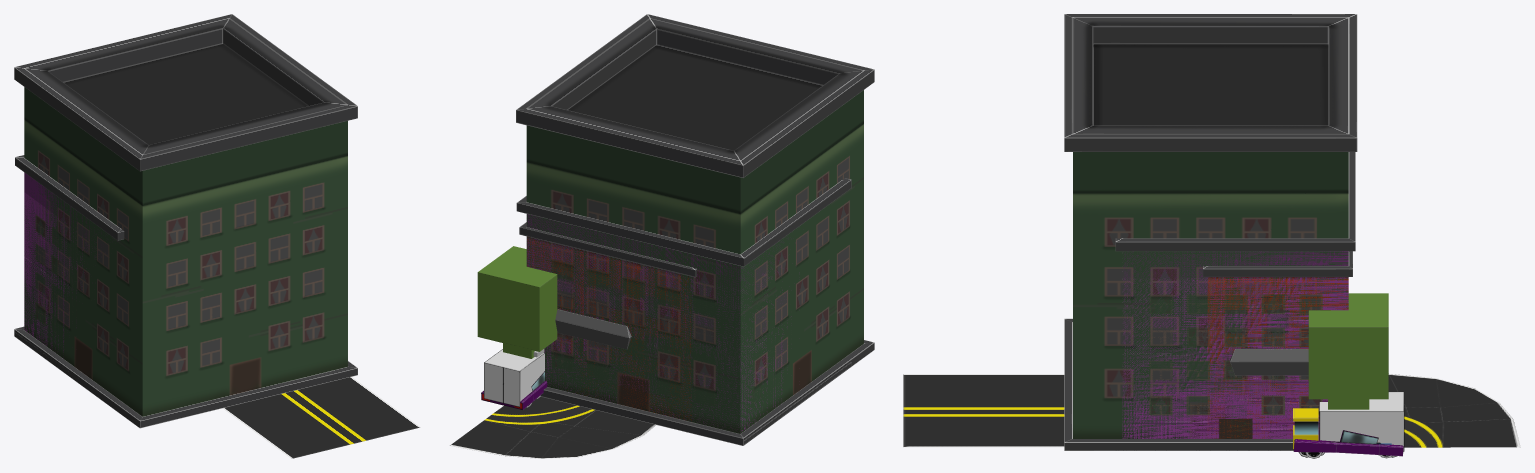
Rendered from Assets_Export_01.fbx.
The picture shows the model from 3 angles, left to right: view 1: azimuth 30°, elevation 25°; view 2: azimuth 150°, elevation 25°; view 3: azimuth 270°, elevation 25°; orthographic projection. The views are drawn at different scales.
Parts seen in each view (by area): view 1: Building_01_L, Road_Straight2, BGBuilding_01_L1; view 2: Building_01_L, BGBuilding_01_L1, pPlane1, Tree_XL2, BGBuilding_01_L2, Truck, Building_02_M, LowRider; view 3: Building_01_L, BGBuilding_01_L1, Road_Straight2, BGBuilding_01_L2, Tree_XL2, pPlane1, Truck, Building_02_M, LowRider.
Boxes of the visible parts, x1,y1,x2,y2 form: Building_01_L: [14, 14, 357, 428]; Road_Straight2: [223, 377, 420, 458]; BGBuilding_01_L1: [15, 155, 124, 407]; Building_01_L: [516, 14, 874, 445]; BGBuilding_01_L1: [516, 178, 851, 445]; pPlane1: [450, 396, 655, 458]; Tree_XL2: [477, 246, 557, 351]; BGBuilding_01_L2: [519, 222, 696, 420]; Truck: [484, 349, 544, 407]; Building_02_M: [555, 309, 631, 349]; LowRider: [481, 371, 547, 409]; Building_01_L: [1064, 14, 1357, 450]; BGBuilding_01_L1: [1115, 152, 1355, 450]; Road_Straight2: [903, 374, 1064, 447]; BGBuilding_01_L2: [1203, 251, 1352, 438]; Tree_XL2: [1308, 293, 1388, 399]; pPlane1: [1388, 374, 1520, 447]; Truck: [1293, 392, 1404, 457]; Building_02_M: [1230, 349, 1308, 375]; LowRider: [1293, 430, 1403, 458].
Bounding box in the file's own units: 12.02 × 12.87 × 22.89.
